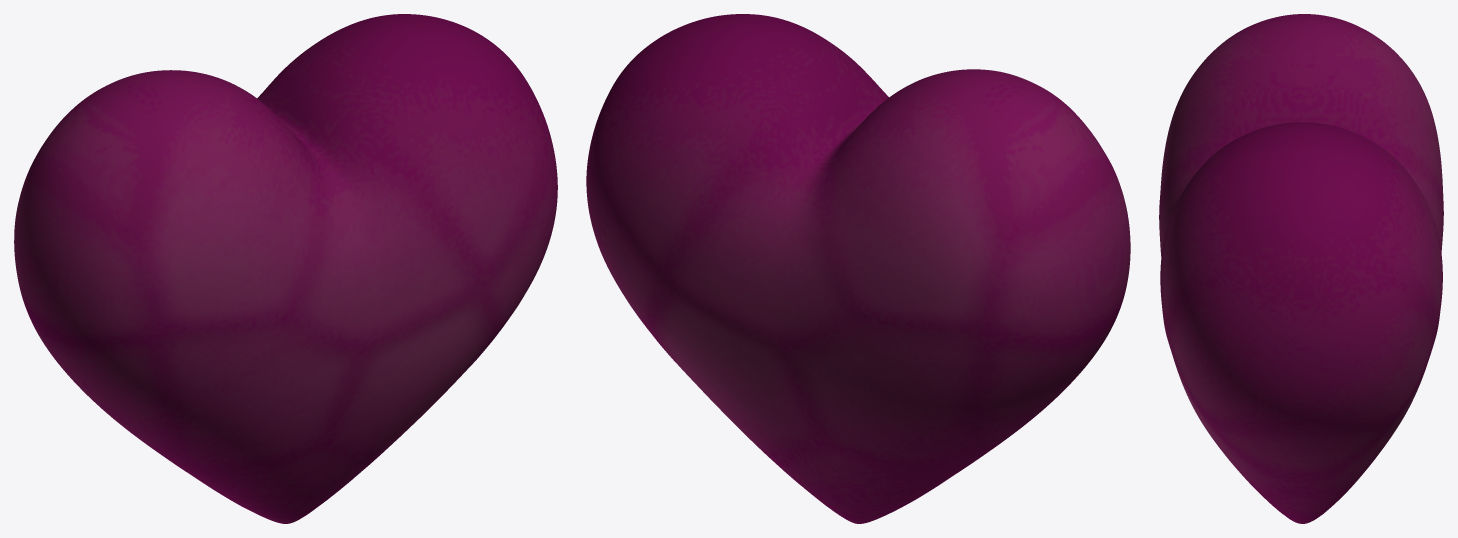
The picture shows the model from 3 angles, left to right: view 1: azimuth 30°, elevation 25°; view 2: azimuth 150°, elevation 25°; view 3: azimuth 270°, elevation 25°; orthographic projection. The views are drawn at different scales.
Visible parts, largest first — view 1: Object_2; view 2: Object_2; view 3: Object_2.
Part boxes in pixels (x1,y1,x2,y2): Object_2: (14,14,557,523); Object_2: (586,14,1130,523); Object_2: (1159,14,1443,523).
Size of the model in its own units: 2.33 by 2.08 by 1.22.
